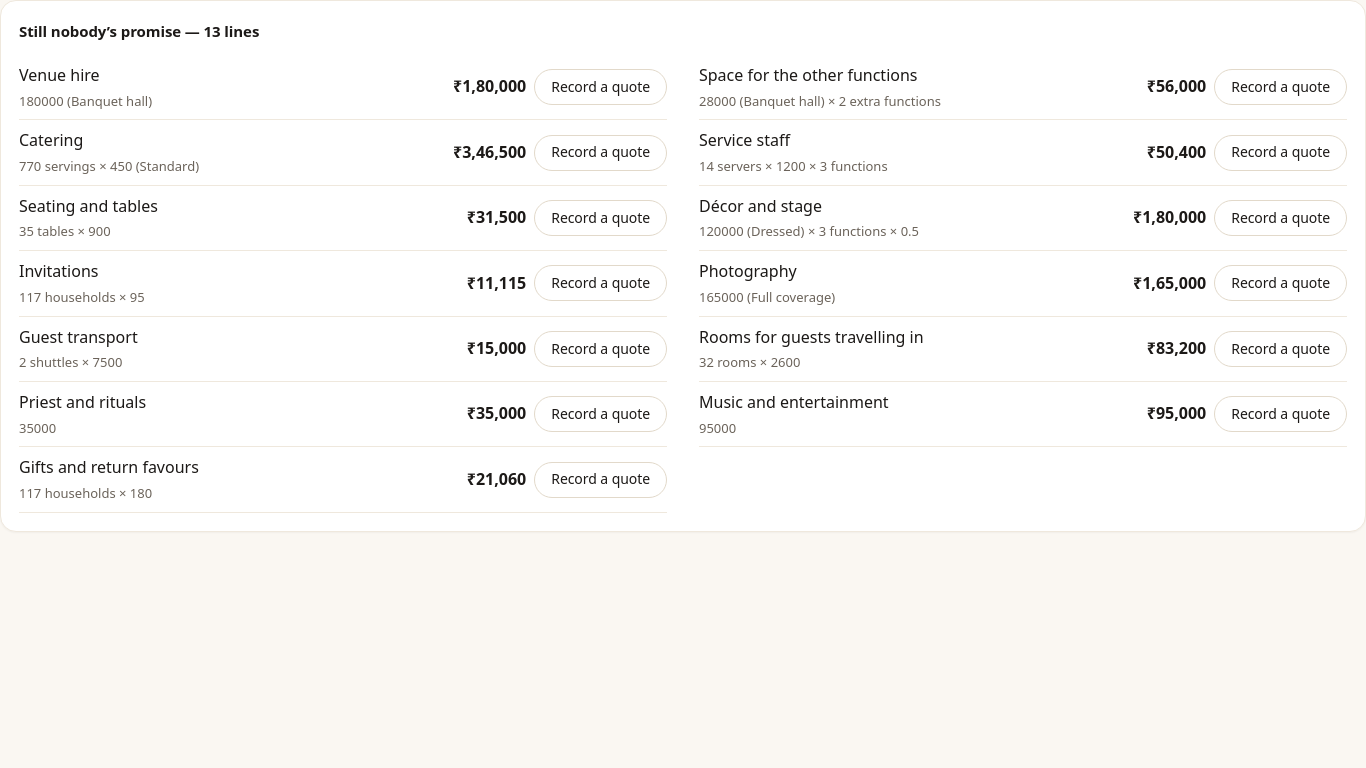
Test case: VendorsView › records a quote typed by hand and moves the line off the estimate
The width and height of the screenshot is (1366, 768).
Click the button "Record a quote" in the row of "180000 (Banquet hall)". click: (601, 87)
box: [534,69,667,105]
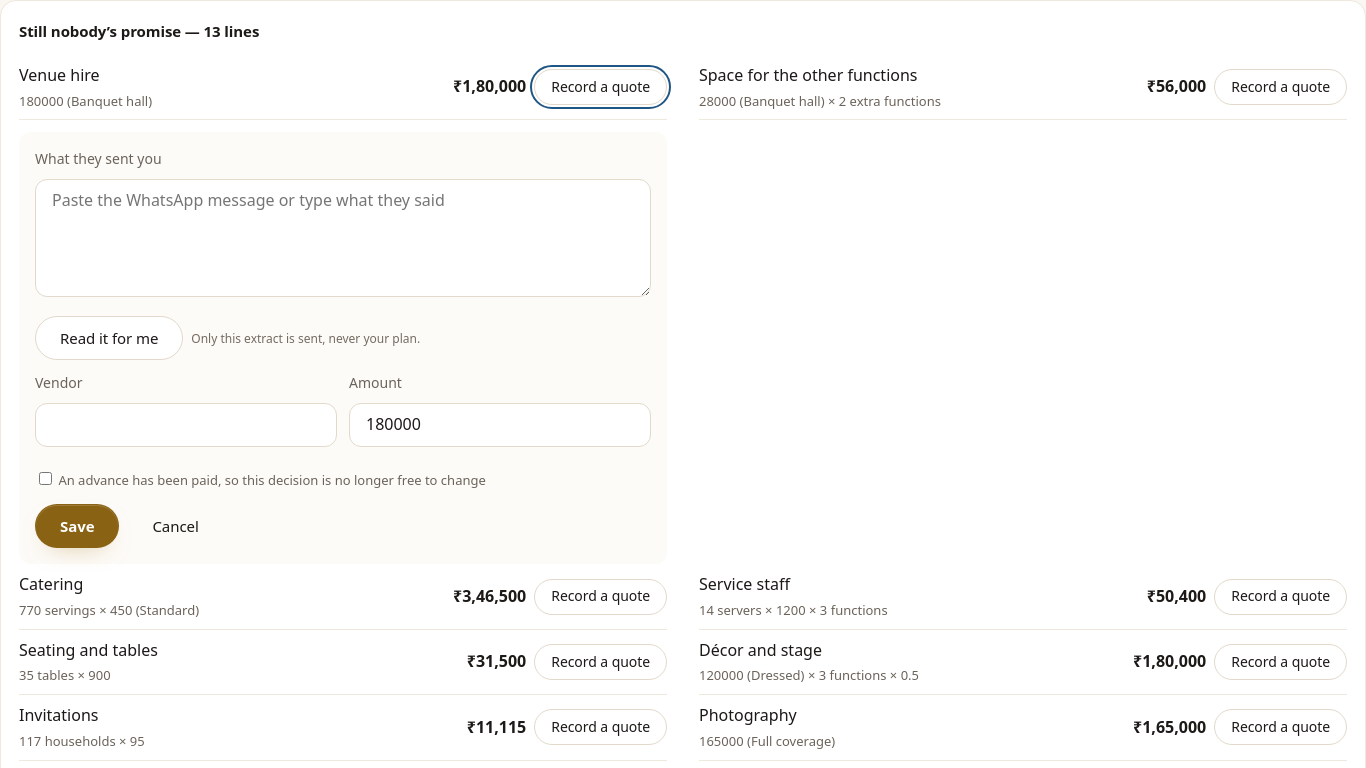
Type "Full day hire, all in" into the text box labelled "What they sent you". click: (343, 238)
box: [35,179,651,297]
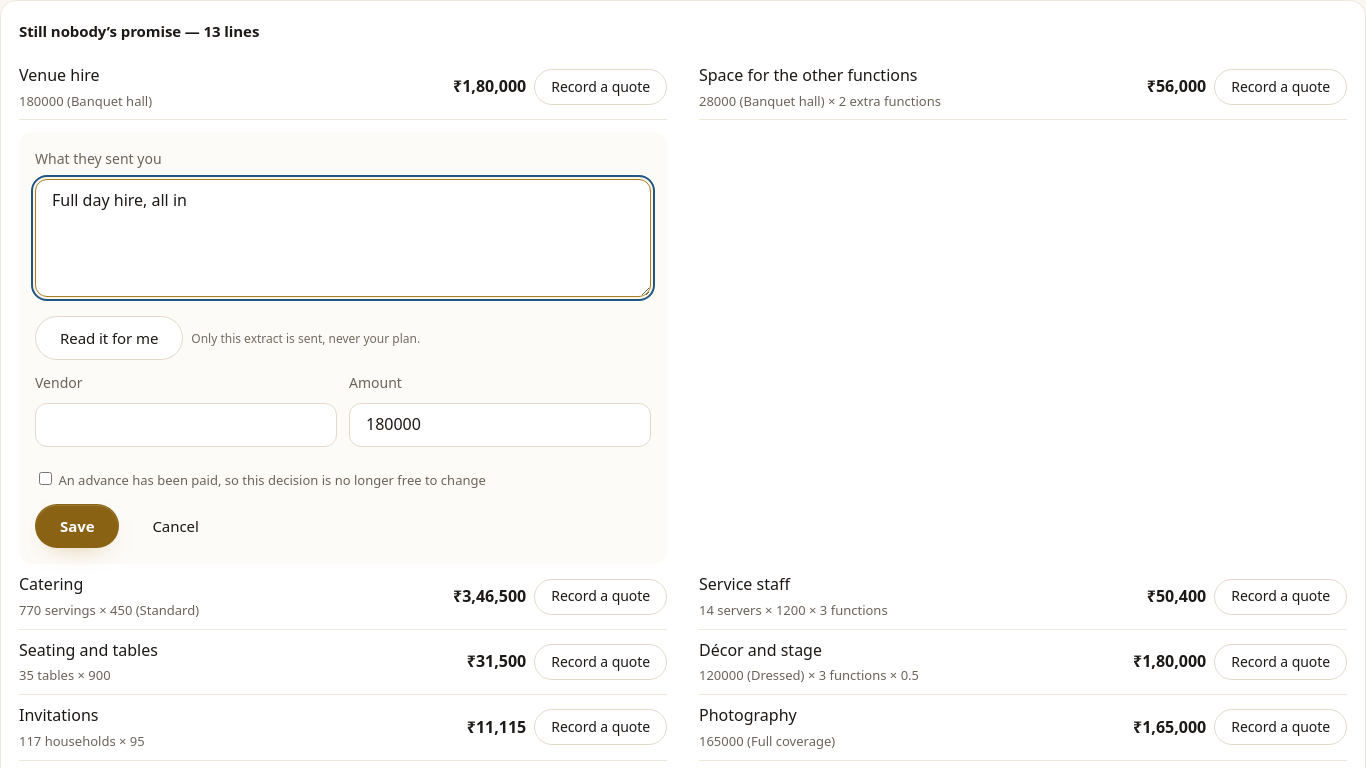
Type "Lotus Banquets" into the field labelled "Vendor". click: (186, 425)
box: [35,403,337,447]
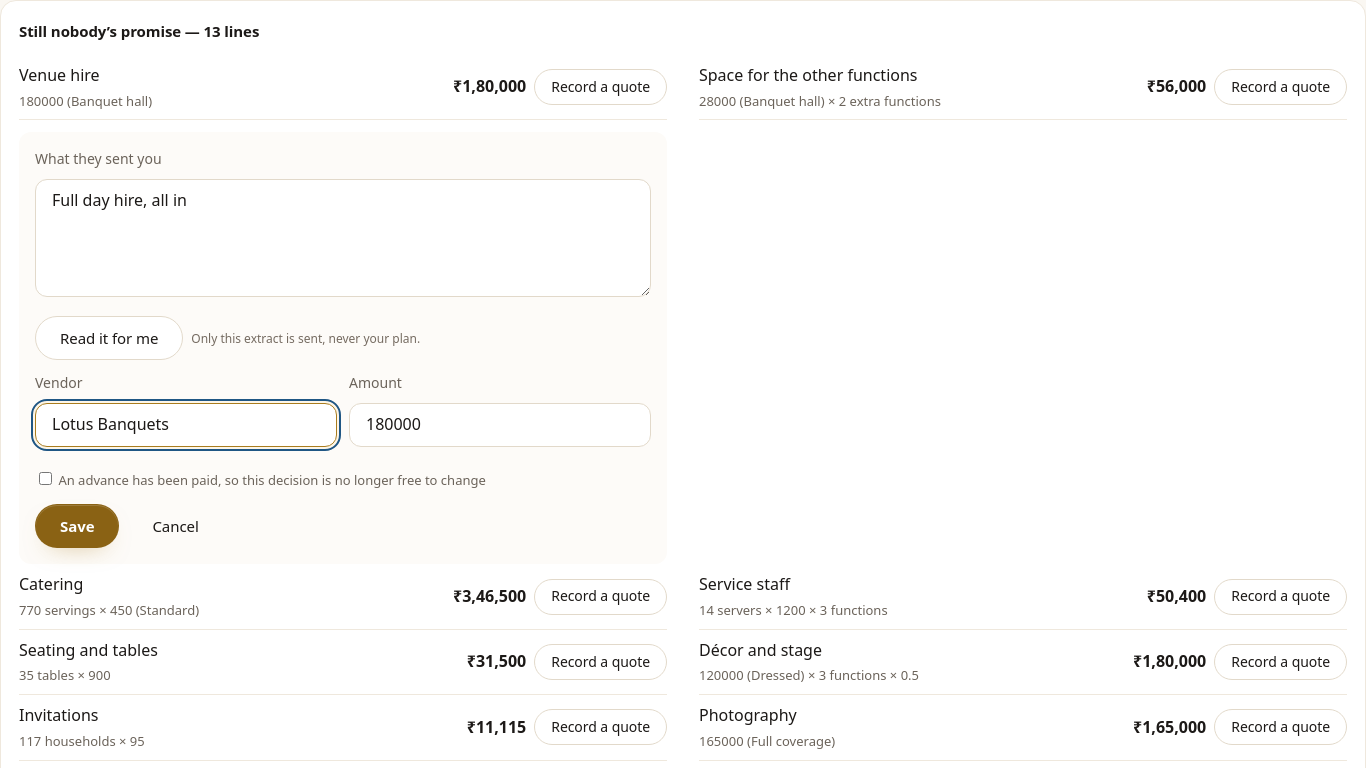
Replace the text in the number field labelled "Amount" with "165000". click: (500, 425)
box: [349,403,651,447]
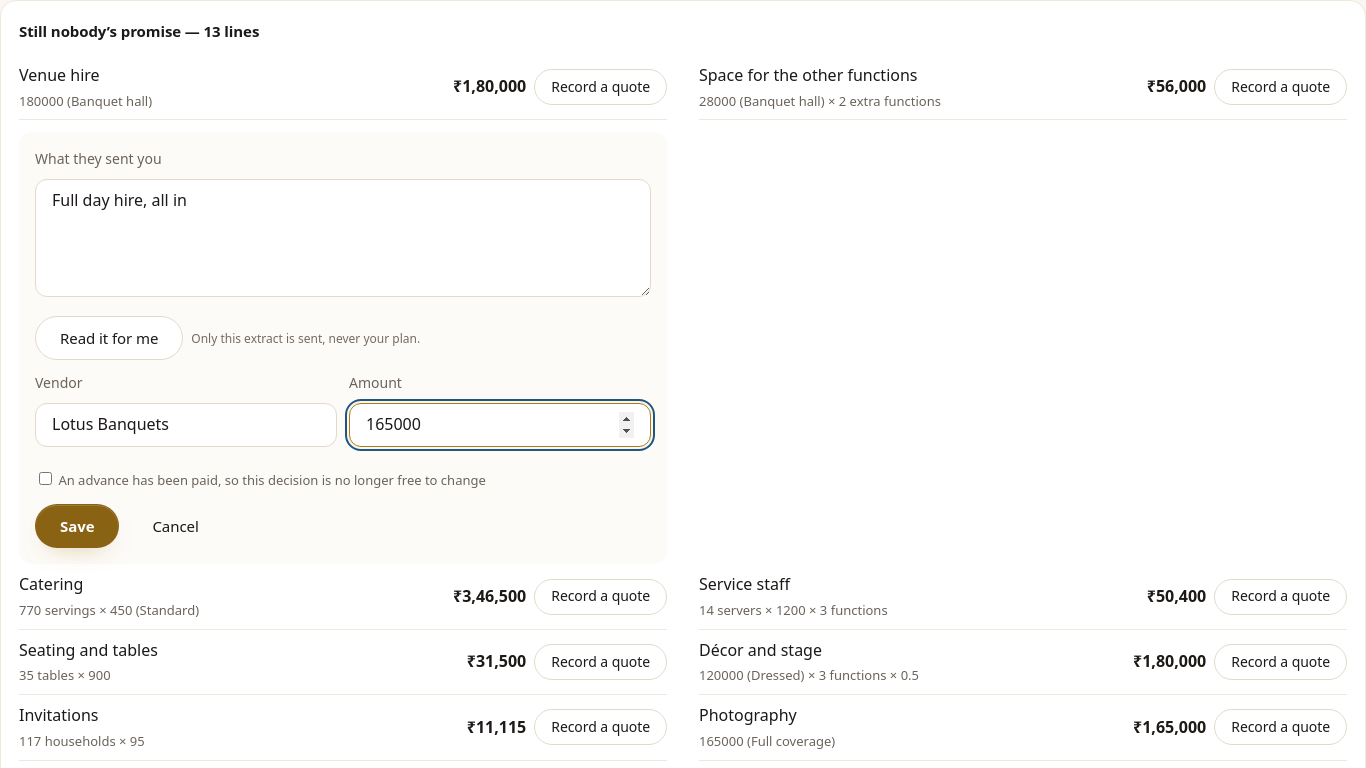
Click the button "Save". click: (77, 526)
box: [35,504,119,548]
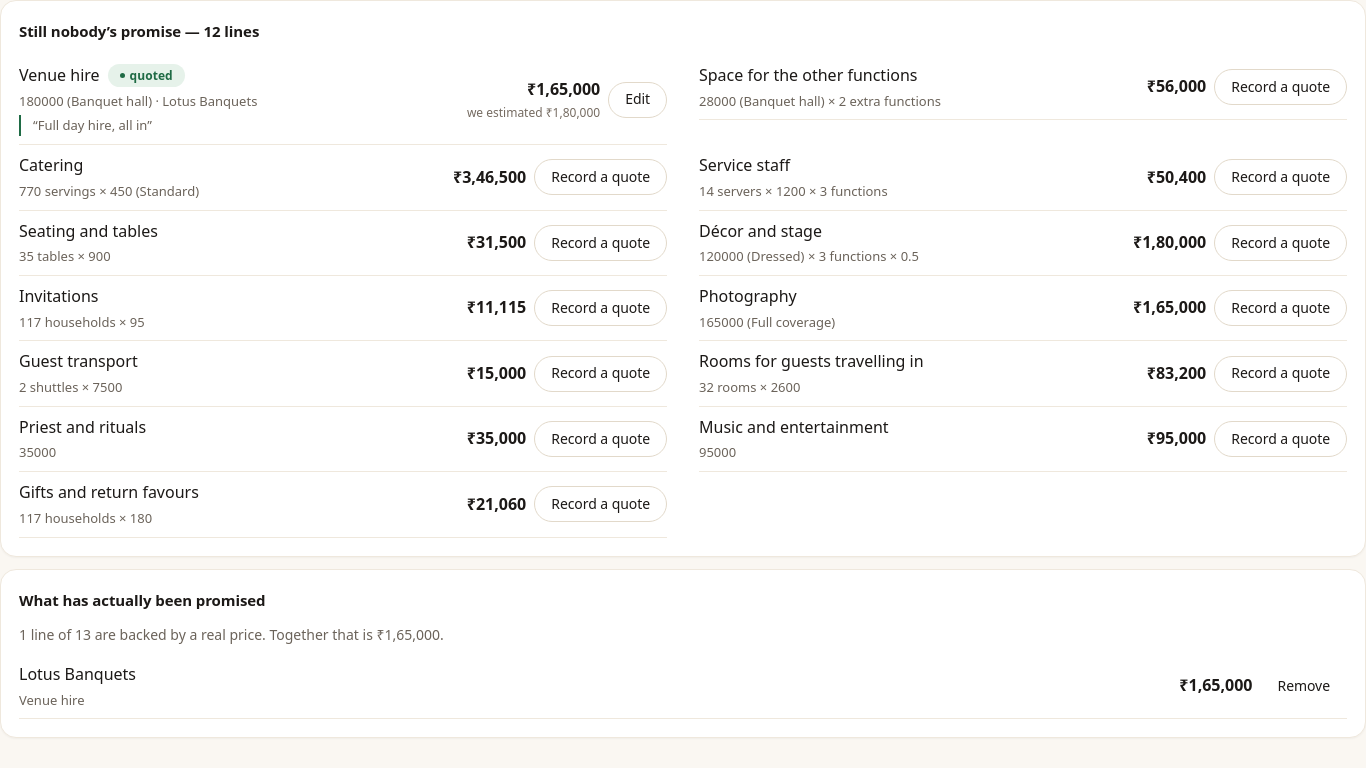
Check: the text "What has actually been promised" is shown, box [19,590,266,610]
Check: the text "Lotus Banquets" is shown, box [19,663,136,685]
Check: the text "“Full day hire, all in”" is shown, box [19,115,455,136]
